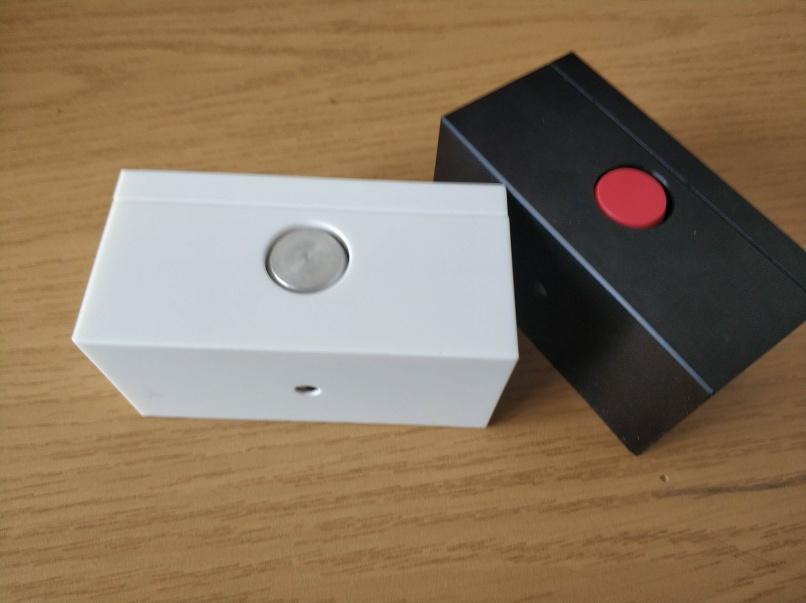black+black+red: (433, 50, 806, 461)
white+white+silver: (67, 164, 521, 430)
